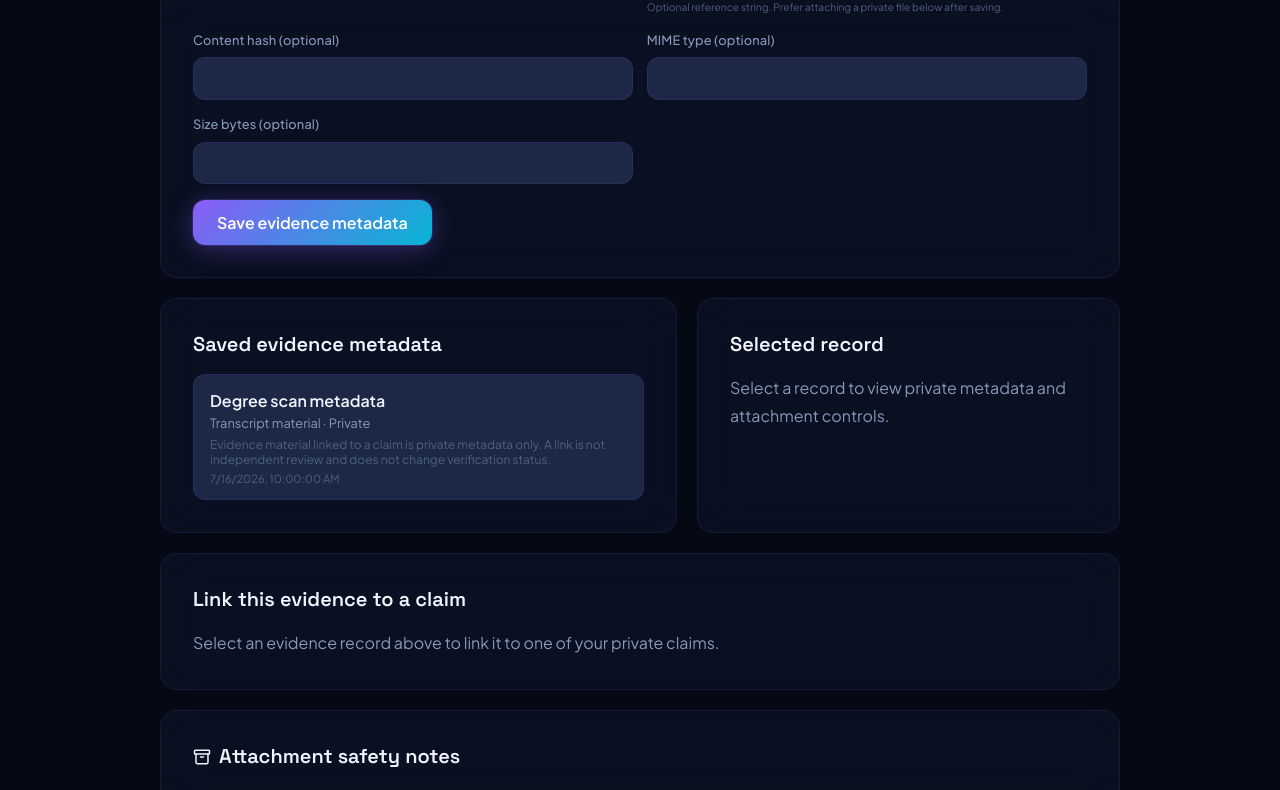
it: EvidenceLibraryPage F6/F7 boundary › selected evidence shows claim linking section and safe copy
(page scrolled)
Click the text "Degree scan metadata" at (298, 400), box [210,390,385,411]
(page scrolled)
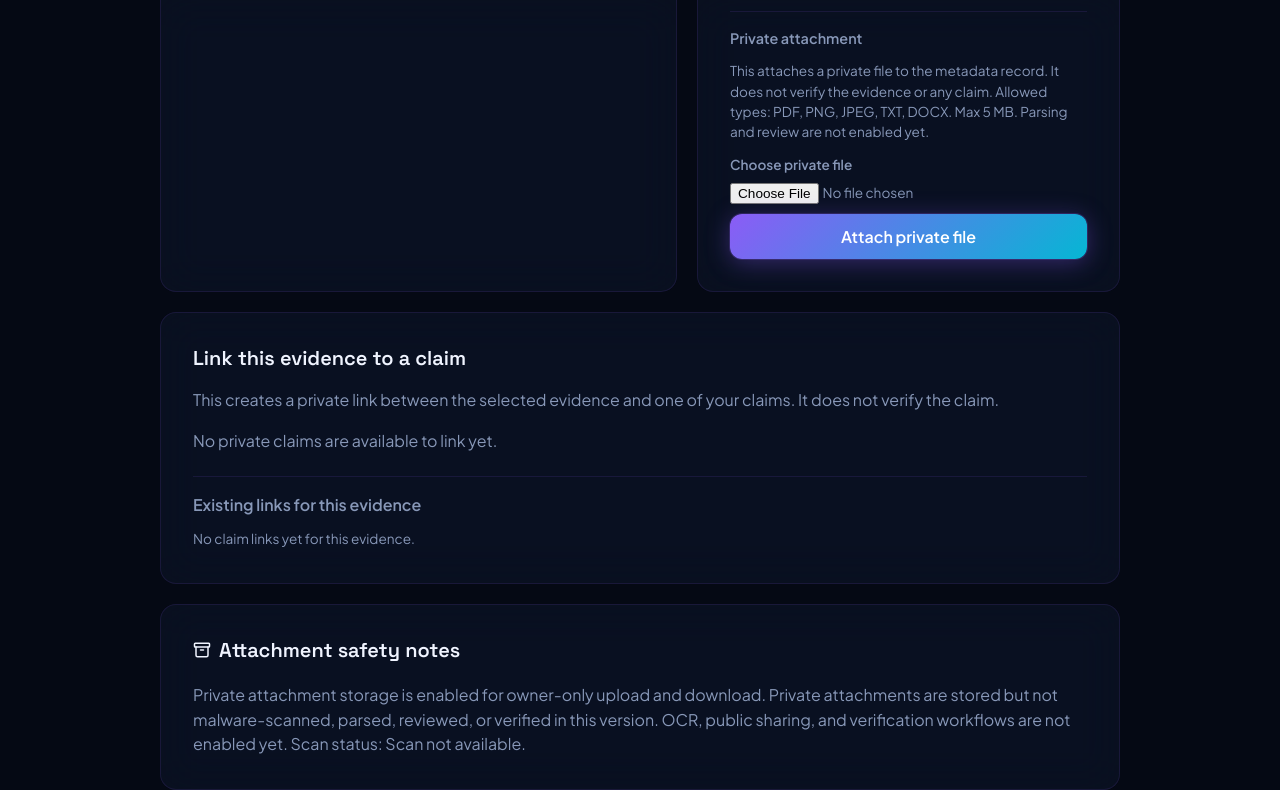
Expected: the heading "Link this evidence to a claim" is shown, [193,345,466,372]
Expected: the text "This creates a private link between the selected evidence and one of your claims. It does not verify the claim" is shown, [193,389,999,410]
